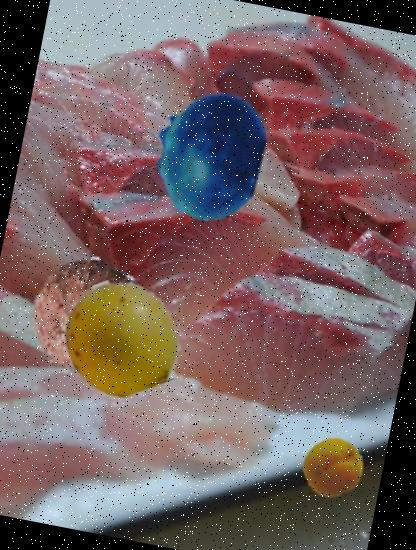Cocos: (15, 244, 158, 388)
Grape: (53, 268, 190, 405)
Huckleberry: (134, 80, 285, 231)
Peach: (297, 431, 370, 504)
